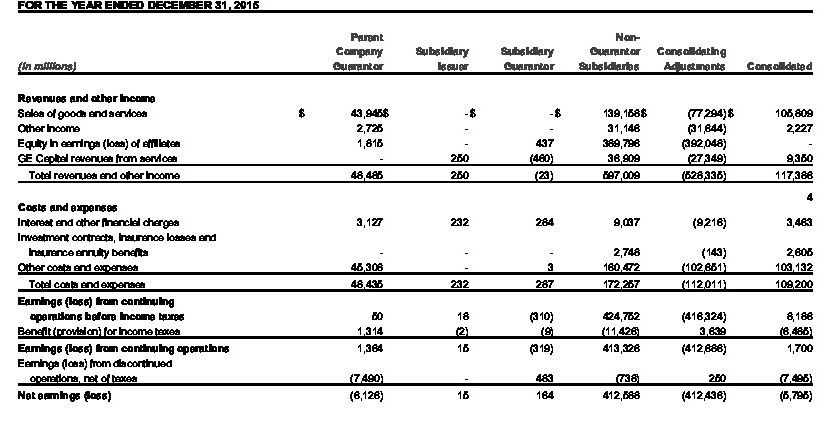table: (0, 0, 835, 428)
